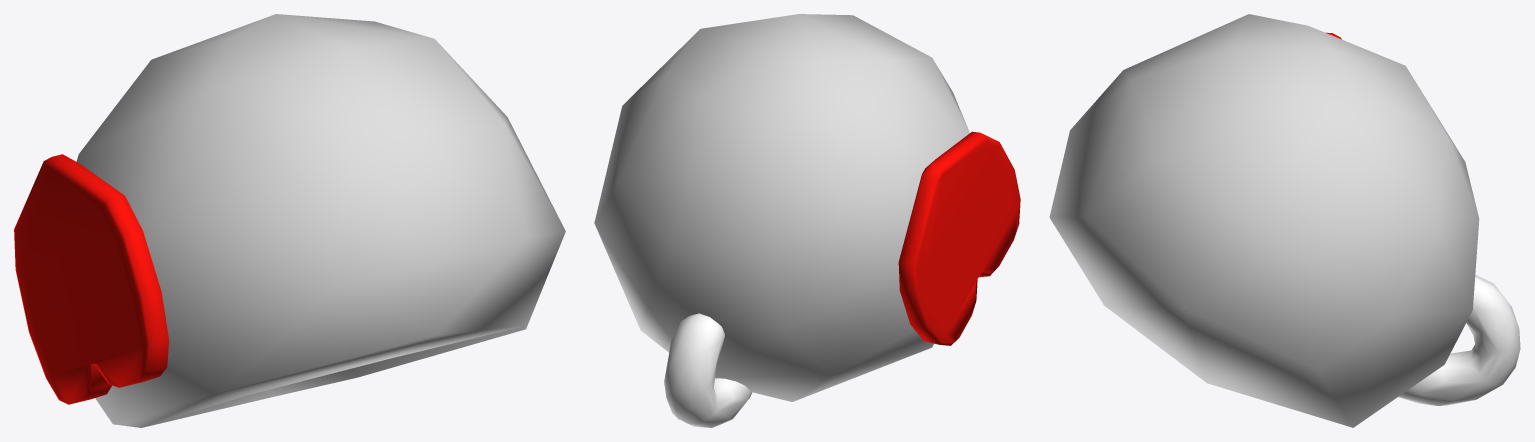
Rendered from kofi.fbx.
3 views of the same model, side by side, from view 1: azimuth 30°, elevation 25°; view 2: azimuth 150°, elevation 25°; view 3: azimuth 270°, elevation 25° (orthographic). The views are drawn at different scales.
Parts seen in each view (by area): view 1: Sphere.007; view 2: Sphere.007; view 3: Sphere.007.
Boxes of the visible parts, x1,y1,x2,y2 form: Sphere.007: (14,14,565,427); Sphere.007: (594,14,1020,427); Sphere.007: (1049,14,1520,427).
Bounding box in the file's own units: 32.75 × 30.05 × 35.63.
